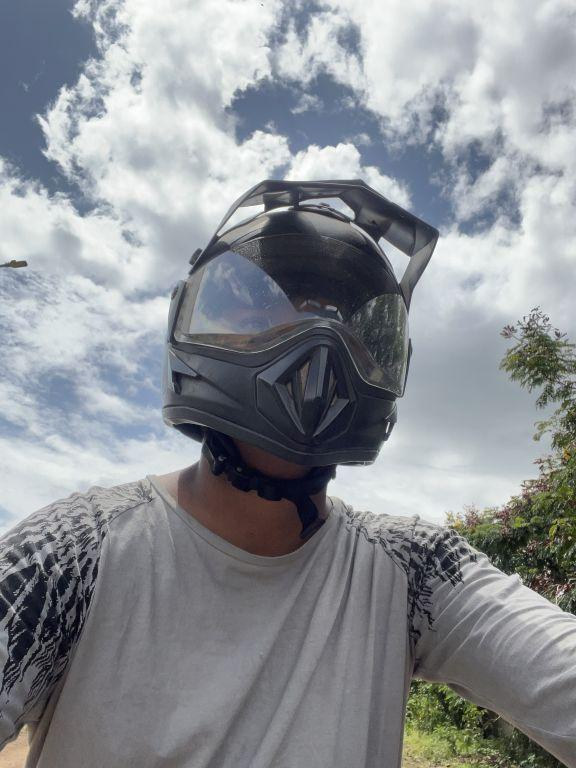helmet: (139, 160, 452, 507)
